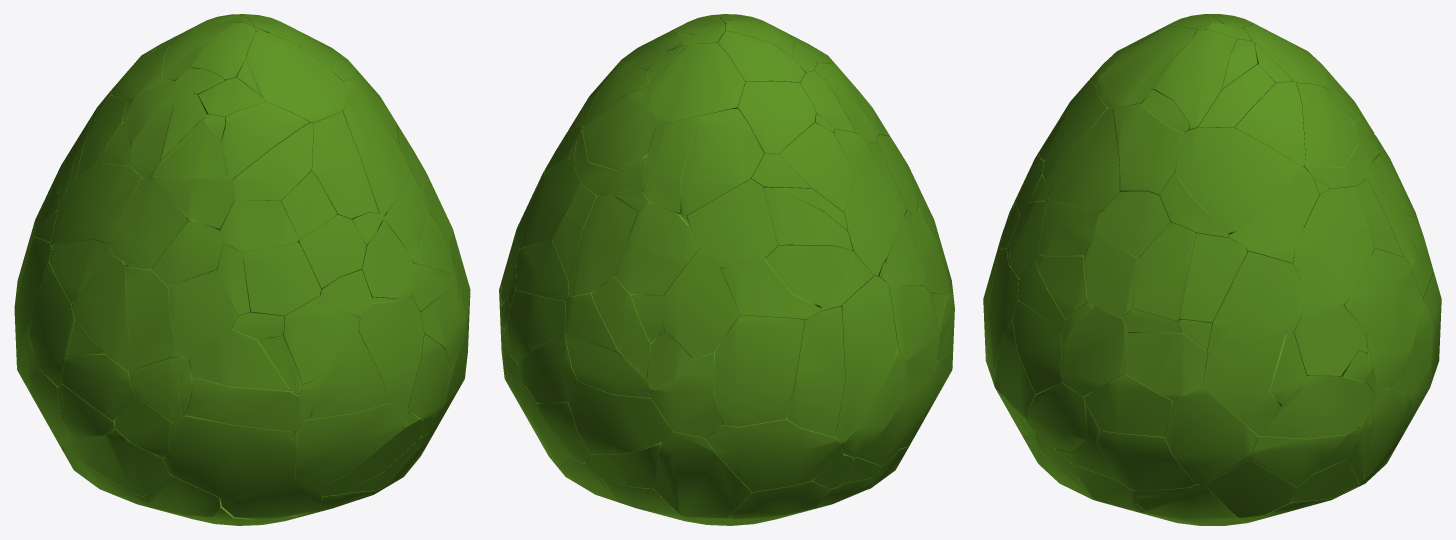
The model's file is crack_egg_solo.glb.
3 renders of one model, left to right at view 1: azimuth 30°, elevation 25°; view 2: azimuth 150°, elevation 25°; view 3: azimuth 270°, elevation 25°, orthographic.
Parts seen in each view (by area): view 1: Sphere.002_cell.485, Sphere.002_cell.519, Sphere.002_cell.152, Sphere.002_cell.608, Sphere.002_cell.557, Sphere.002_cell.476, Sphere.002_cell.441, Sphere.002_cell.377, Sphere.002_cell.409, Sphere.002_cell.618, Sphere.002_cell.461, Sphere.002_cell.366 (+60 smaller); view 2: Sphere.002_cell.502, Sphere.002_cell.569, Sphere.002_cell.510, Sphere.002_cell.423, Sphere.002_cell.524, Sphere.002_cell.301, Sphere.002_cell.211, Sphere.002_cell.623, Sphere.002_cell.427, Sphere.002_cell.472, Sphere.002_cell.430, Sphere.002_cell.608 (+52 smaller); view 3: Sphere.002_cell.383, Sphere.002_cell.233, Sphere.002_cell.401, Sphere.002_cell.632, Sphere.002_cell.190, Sphere.002_cell.482, Sphere.002_cell.376, Sphere.002_cell.635, Sphere.002_cell.320, Sphere.002_cell.390, Sphere.002_cell.259, Sphere.002_cell.599 (+54 smaller).
Boxes of the visible parts, bbox=[...] form: Sphere.002_cell.485: bbox=[163, 415, 295, 497]; Sphere.002_cell.519: bbox=[294, 403, 408, 487]; Sphere.002_cell.152: bbox=[246, 31, 346, 122]; Sphere.002_cell.608: bbox=[51, 162, 142, 248]; Sphere.002_cell.557: bbox=[358, 296, 424, 407]; Sphere.002_cell.476: bbox=[311, 111, 379, 219]; Sphere.002_cell.441: bbox=[186, 376, 302, 432]; Sphere.002_cell.377: bbox=[241, 242, 321, 316]; Sphere.002_cell.409: bbox=[283, 294, 359, 384]; Sphere.002_cell.618: bbox=[109, 177, 187, 269]; Sphere.002_cell.461: bbox=[168, 269, 238, 358]; Sphere.002_cell.366: bbox=[71, 253, 132, 371]; Sphere.002_cell.502: bbox=[714, 315, 804, 427]; Sphere.002_cell.569: bbox=[705, 417, 842, 492]; Sphere.002_cell.510: bbox=[835, 276, 897, 443]; Sphere.002_cell.423: bbox=[654, 429, 751, 518]; Sphere.002_cell.524: bbox=[681, 108, 763, 215]; Sphere.002_cell.301: bbox=[786, 306, 845, 436]; Sphere.002_cell.211: bbox=[648, 43, 744, 126]; Sphere.002_cell.623: bbox=[663, 248, 739, 359]; Sphere.002_cell.427: bbox=[686, 179, 777, 267]; Sphere.002_cell.472: bbox=[615, 203, 700, 294]; Sphere.002_cell.430: bbox=[568, 381, 671, 454]; Sphere.002_cell.608: bbox=[835, 142, 906, 276]; Sphere.002_cell.383: bbox=[1175, 127, 1300, 233]; Sphere.002_cell.233: bbox=[1293, 187, 1373, 304]; Sphere.002_cell.401: bbox=[1207, 251, 1306, 353]; Sphere.002_cell.632: bbox=[1164, 387, 1257, 484]; Sphere.002_cell.190: bbox=[1202, 333, 1291, 435]; Sphere.002_cell.482: bbox=[1259, 375, 1375, 438]; Sphere.002_cell.376: bbox=[1113, 103, 1183, 195]; Sphere.002_cell.635: bbox=[1153, 29, 1237, 132]; Sphere.002_cell.320: bbox=[1124, 332, 1207, 400]; Sphere.002_cell.390: bbox=[1048, 108, 1119, 212]; Sphere.002_cell.259: bbox=[1060, 306, 1127, 396]; Sphere.002_cell.599: bbox=[1292, 293, 1367, 376].
Size of the model in its own units: 1.95 by 2.27 by 1.97.
